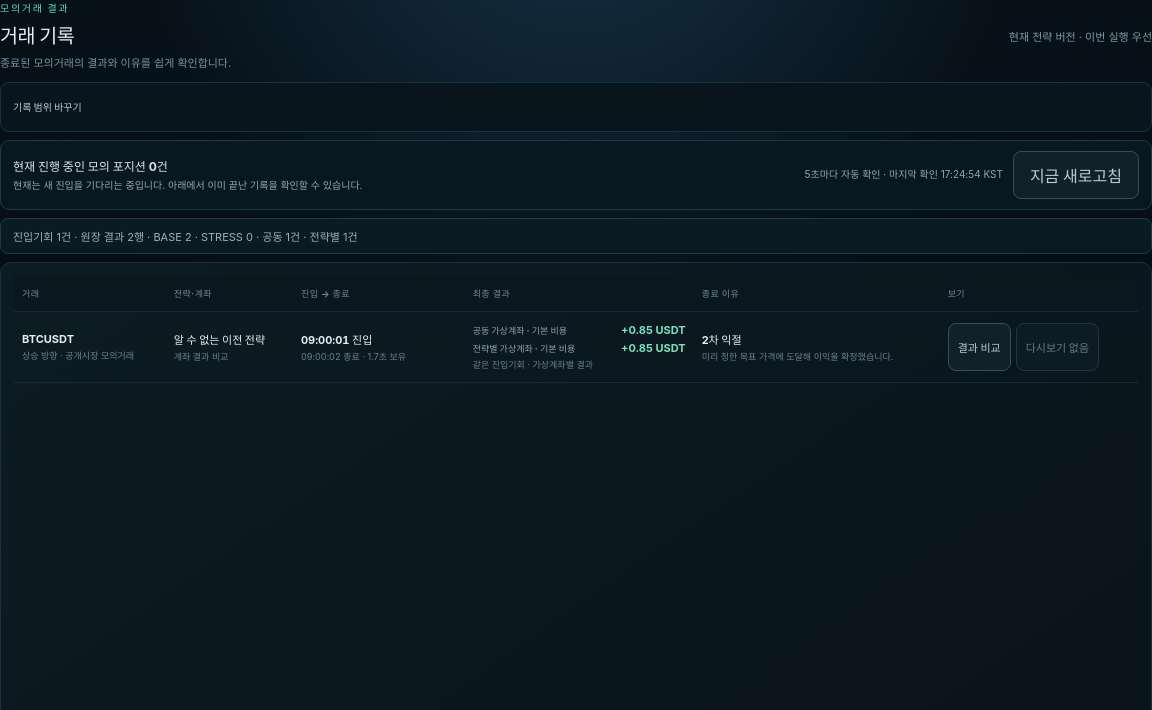
Test case: shows all PAPER accounts by default with a visible loading and count summary
The width and height of the screenshot is (1152, 710).
Expected: the message reads "진입기회 1건 · 원장 결과 2행 · BASE 2 · STRESS 0 · 공동 1건 · 전략별 1건", [13, 230, 358, 244]
Expected: the row that starts with "BTCUSDT" shows "계좌 결과 비교", [174, 350, 228, 362]
Click the button "결과 비교". click: (979, 346)
box: [948, 322, 1011, 370]
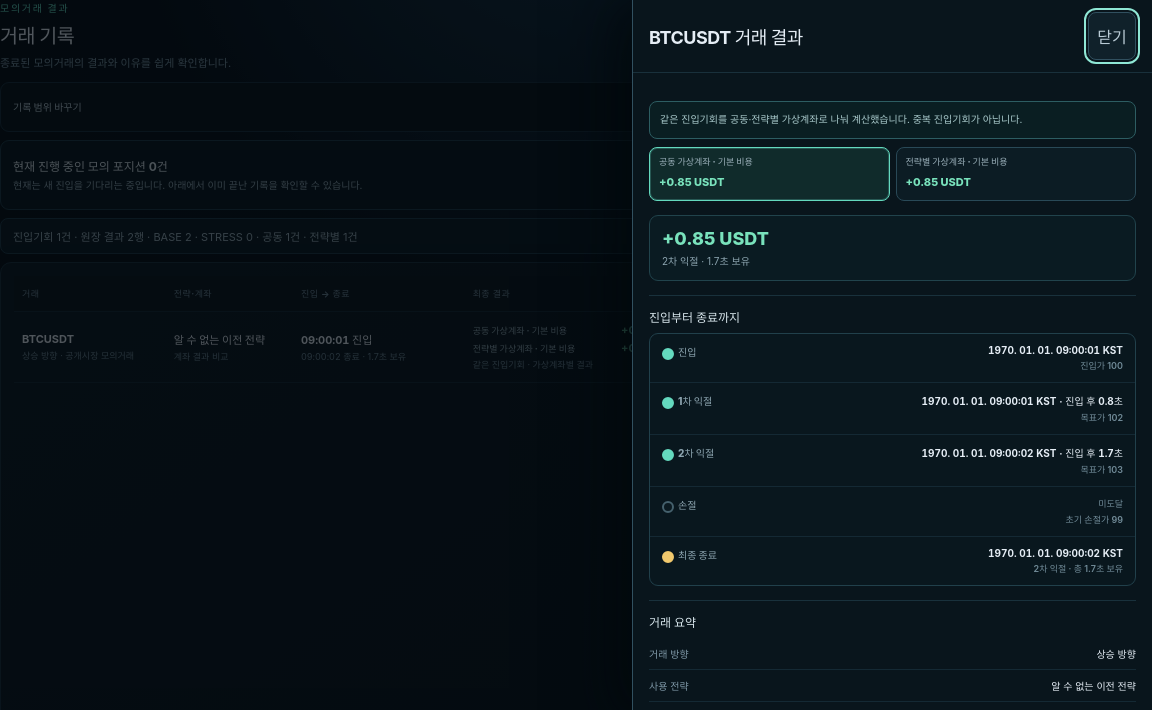
Expected: the element named "진입기회별 세부 결과" shows "공동 가상계좌 · 기본 비용", [649, 146, 890, 200]
Expected: the element named "진입기회별 세부 결과" shows "전략별 가상계좌 · 기본 비용", [896, 146, 1136, 200]
Expected: the text "같은 진입기회를 공동·전략별 가상계좌로 나눠 계산했습니다. 중복 진입기회가 아닙니다." is shown, [649, 101, 1136, 138]
